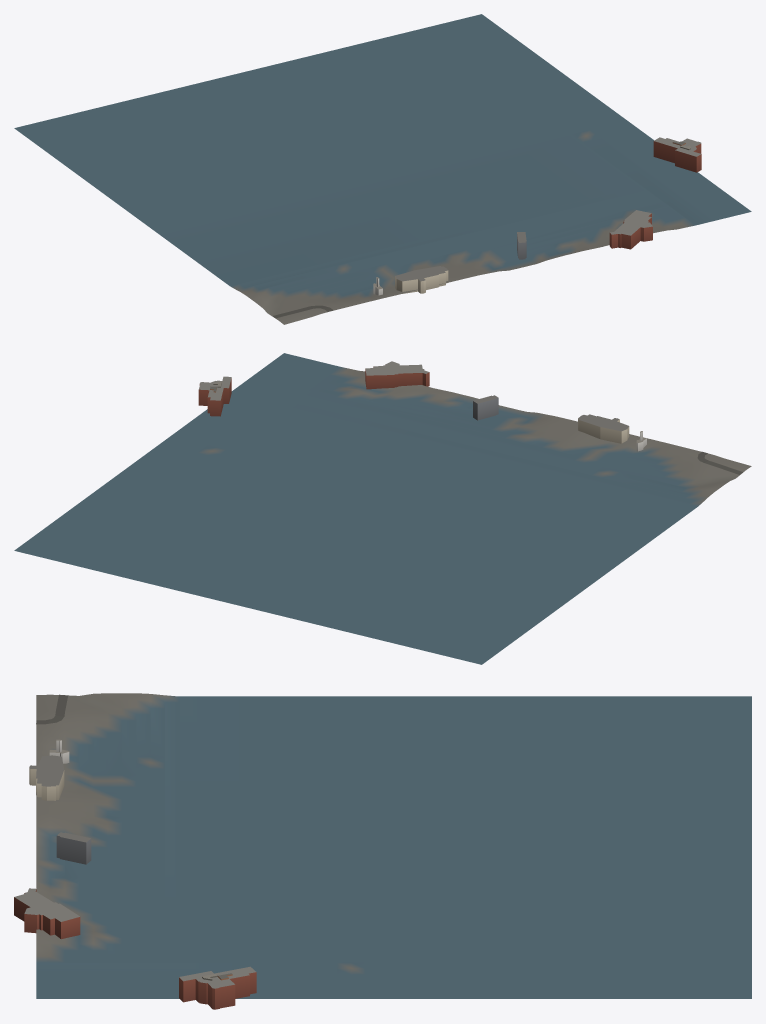
3 renders of one model, top to bottom at view 1: azimuth 30°, elevation 25°; view 2: azimuth 150°, elevation 25°; view 3: azimuth 270°, elevation 25°, orthographic. The views are drawn at different scales.
Visible parts, largest first — view 1: ground, buildings; view 2: ground, buildings; view 3: ground, buildings.
Part boxes in pixels (box(x1,y1,x2,y2)): ground: box(14, 14, 751, 324); buildings: box(373, 137, 701, 295); ground: box(14, 353, 751, 664); buildings: box(198, 361, 646, 451); ground: box(36, 693, 751, 998); buildings: box(14, 739, 256, 1009).
Bounding box in the file's own units: 518 × 17.27 × 516.
